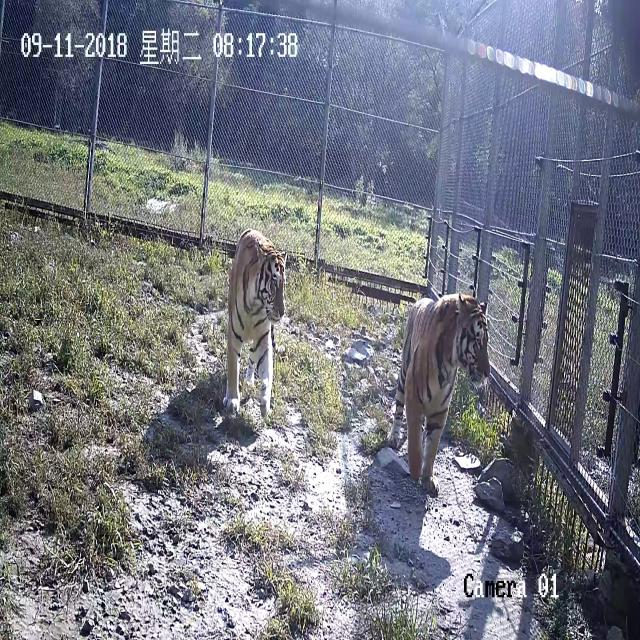Tiger: (188, 192, 307, 440), (389, 272, 503, 494)
